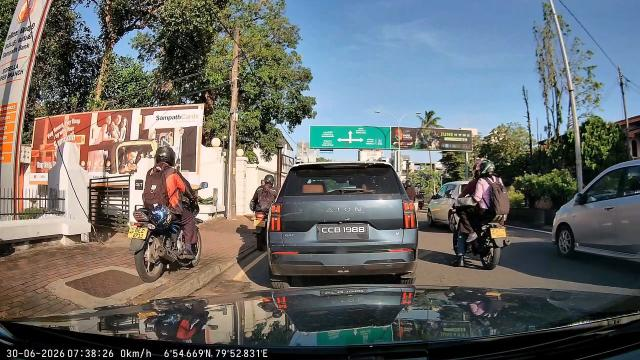illegal overtaking: (123, 137, 213, 281)
number plate: (128, 222, 154, 243)
